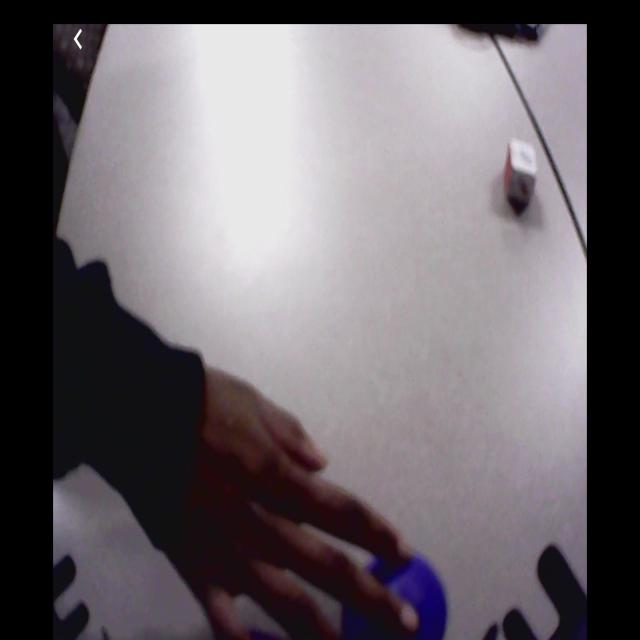ball: (346, 552, 449, 640)
